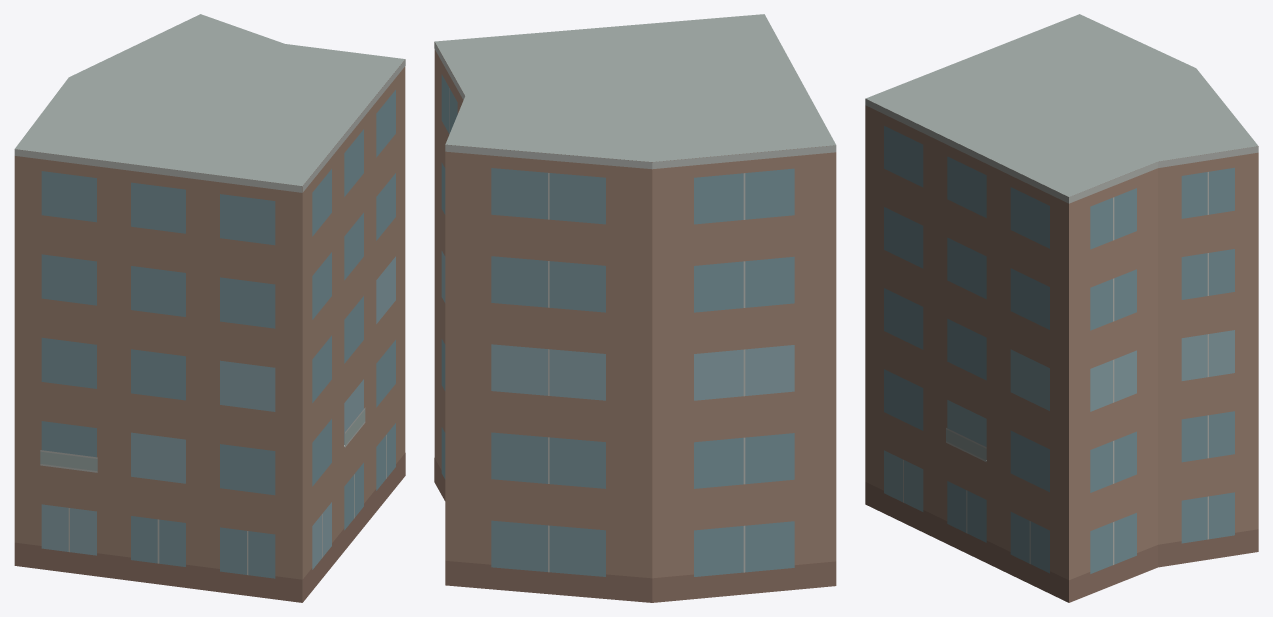
File: survey-upis-32595123.glb
The picture shows the model from 3 angles, left to right: view 1: azimuth 30°, elevation 25°; view 2: azimuth 150°, elevation 25°; view 3: azimuth 270°, elevation 25°; orthographic projection. The views are drawn at different scales.
Parts seen in each view (by area): view 1: survey-upis-32595123.tmp; view 2: survey-upis-32595123.tmp; view 3: survey-upis-32595123.tmp.
Boxes of the visible parts, x1,y1,x2,y2 form: survey-upis-32595123.tmp: [14, 14, 405, 602]; survey-upis-32595123.tmp: [434, 14, 836, 602]; survey-upis-32595123.tmp: [865, 14, 1258, 602].
Size of the model in its own units: 14.62 by 15.1 by 13.27.
